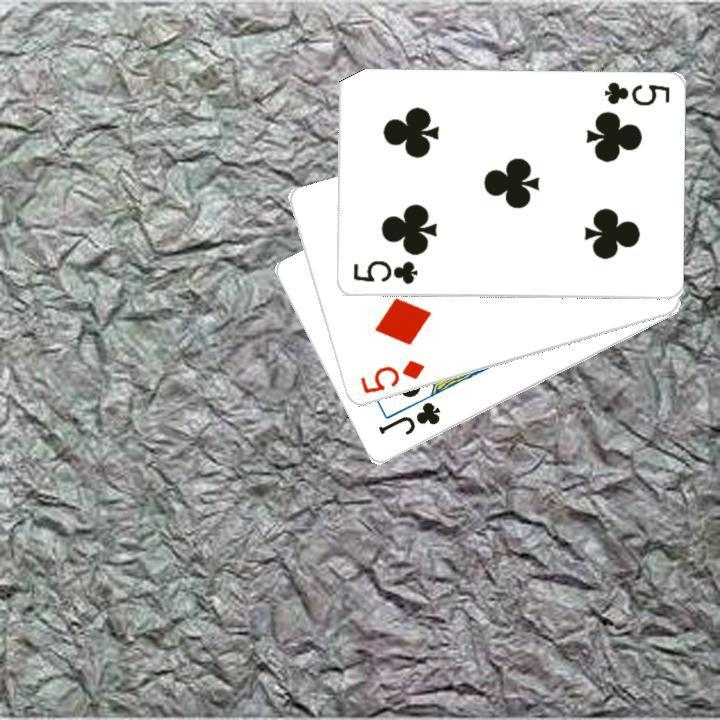5: (355, 356, 426, 397), (599, 77, 671, 109), (348, 257, 419, 286)
J: (373, 398, 442, 438)
